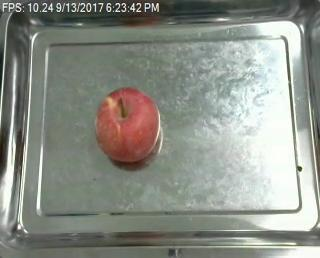apple: (96, 87, 161, 162)
